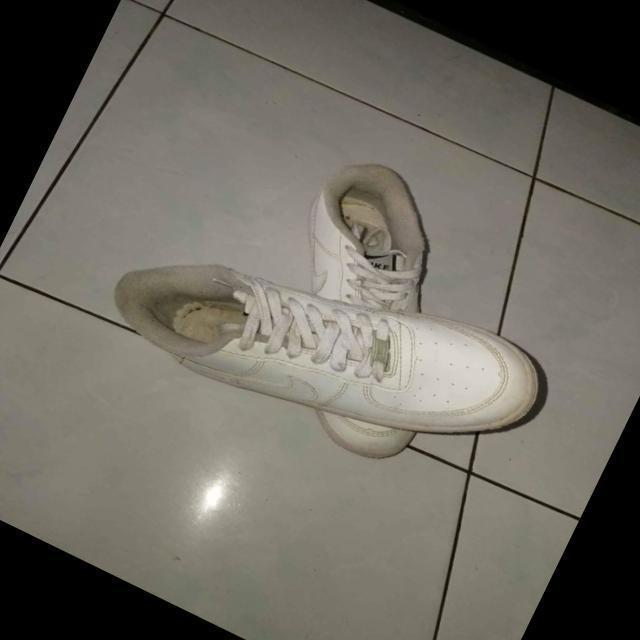nike fake air force: (94, 172, 563, 518), (205, 134, 524, 478)
